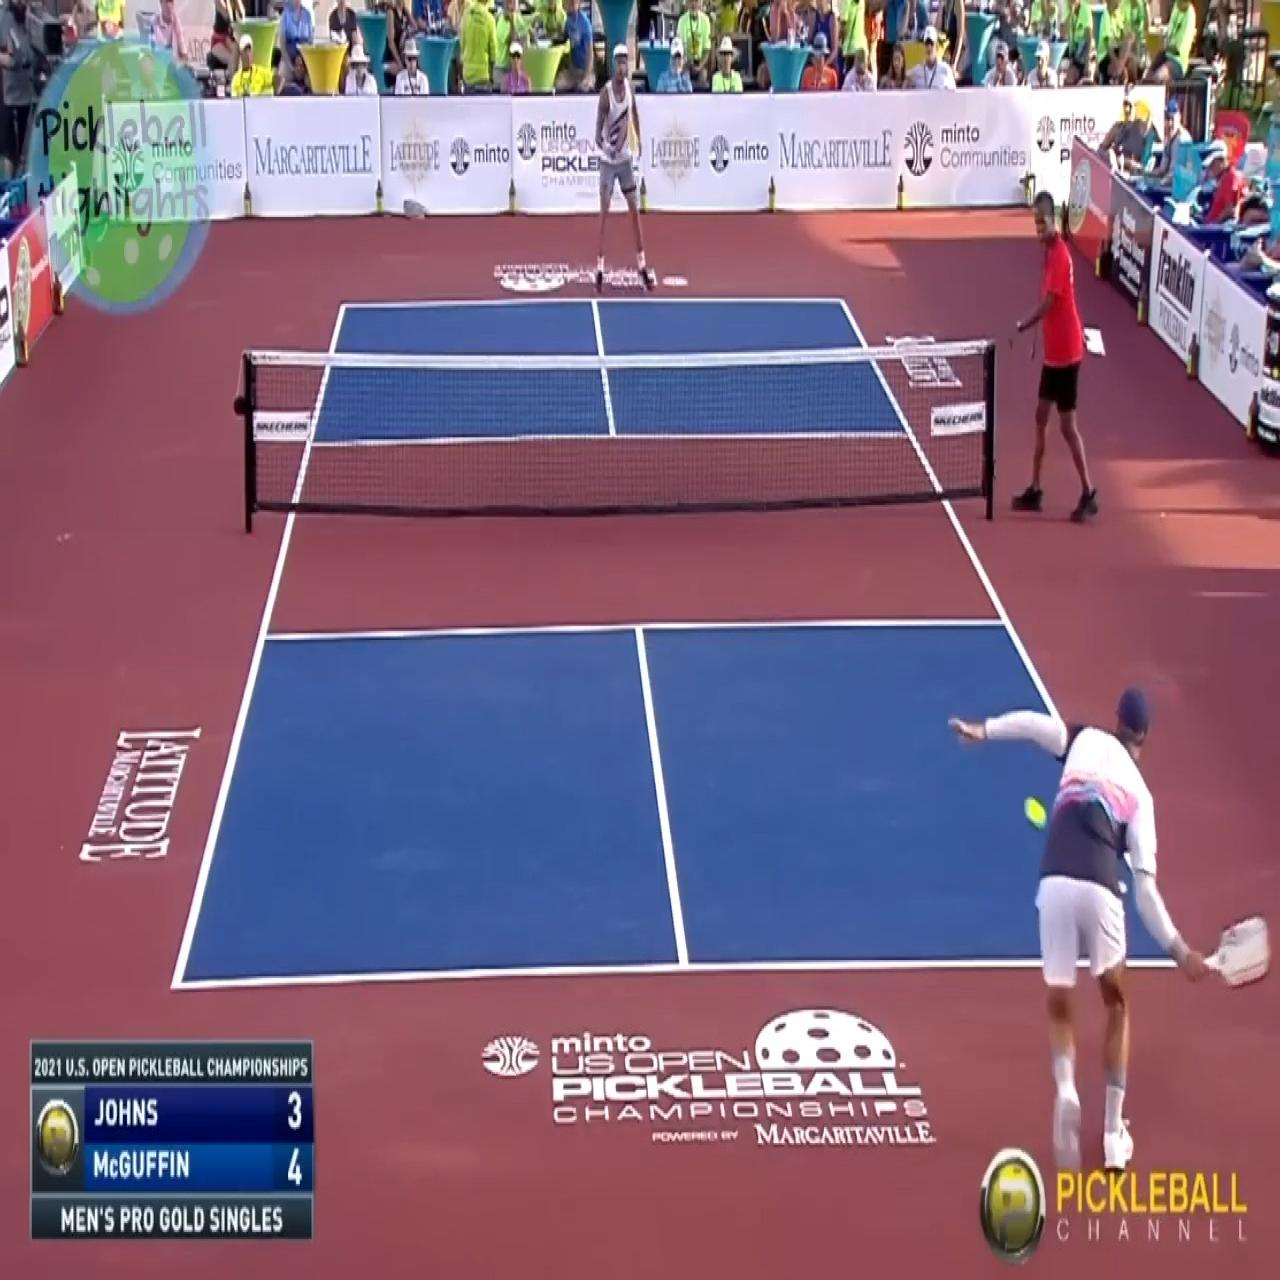pickleball: (1024, 796, 1046, 829)
